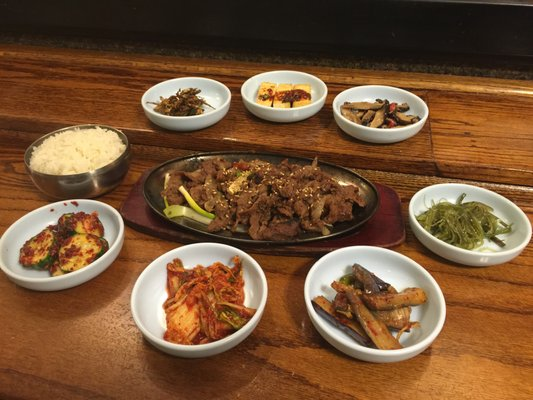sushi: (304, 246, 447, 365), (130, 243, 268, 359), (1, 198, 125, 292), (407, 183, 532, 267), (23, 124, 132, 201), (332, 85, 429, 144), (141, 77, 232, 131), (240, 71, 328, 124)
